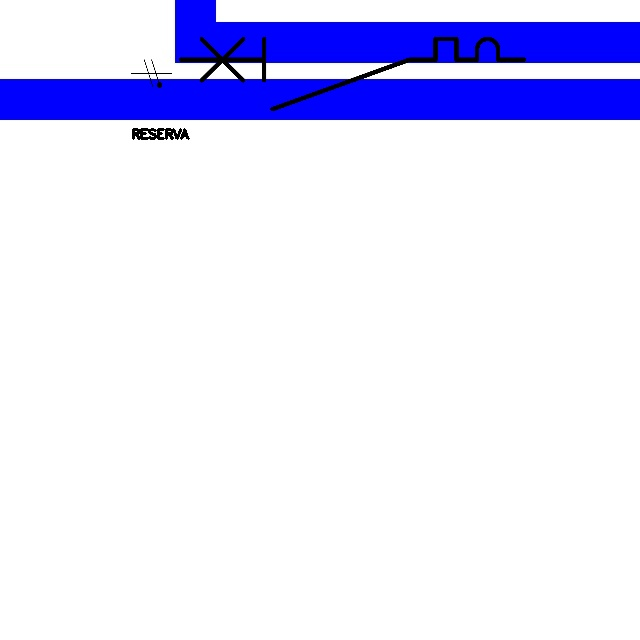interruptor_termomagnetico: (171, 30, 532, 118)
